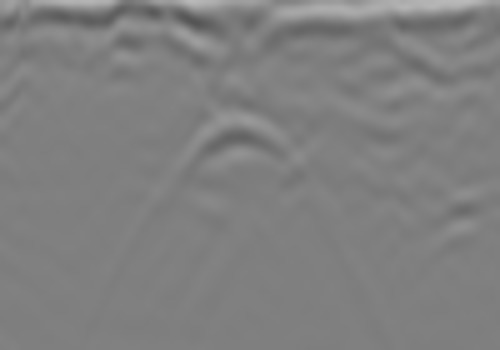hyperbola: (111, 111, 368, 308)
